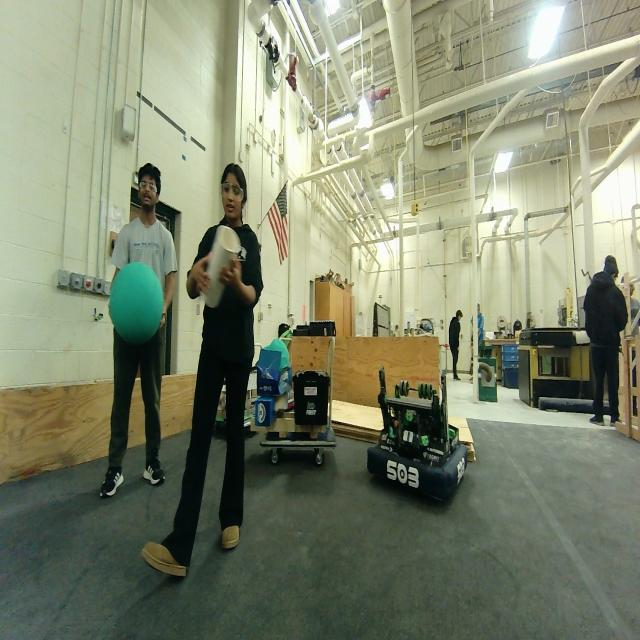algae: (109, 262, 164, 345)
coral: (201, 225, 246, 308)
